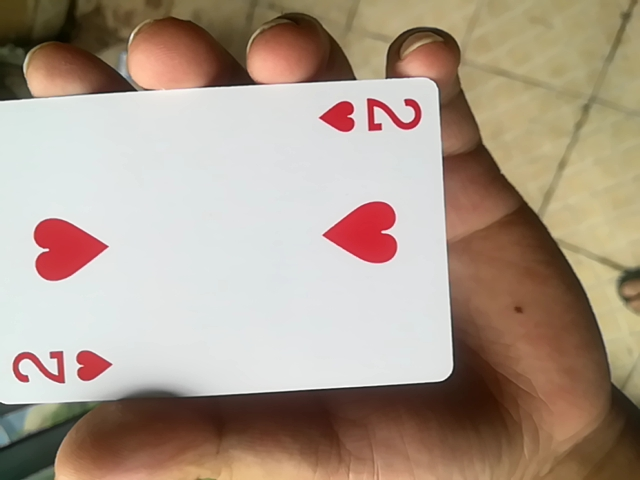hx 2: (6, 76, 454, 419)
